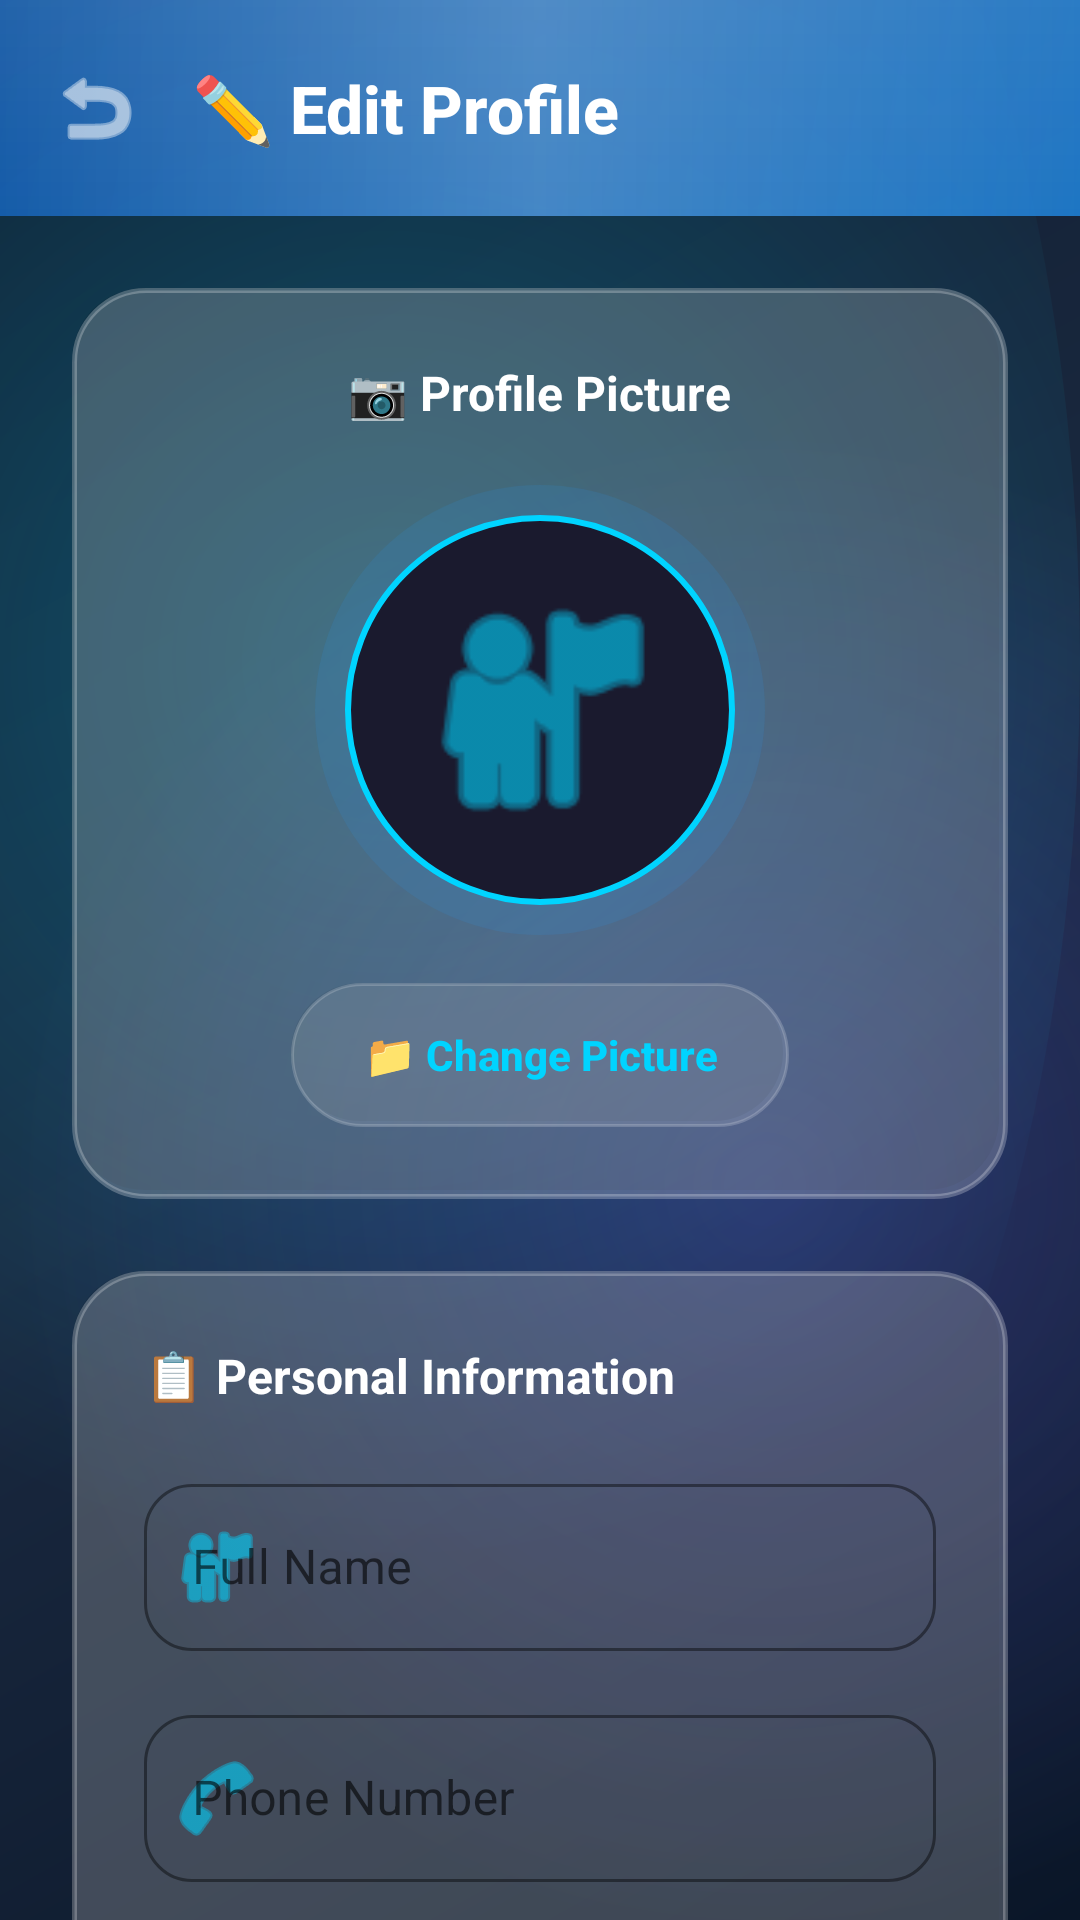

Icons on this 1080×1920 Android screen, each with its box as (x1, y1, x2, y2):
revert: (63, 77, 132, 140)
